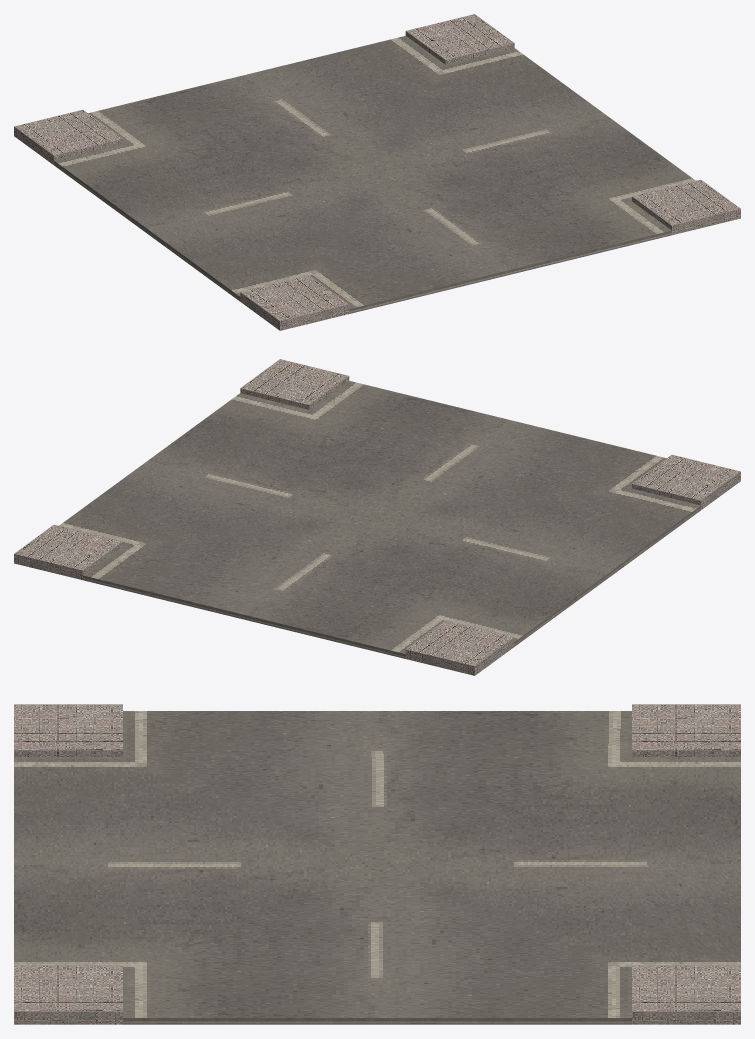
The model's file is road_4_junction.glb.
The picture shows the model from 3 angles, top to bottom: view 1: azimuth 30°, elevation 25°; view 2: azimuth 150°, elevation 25°; view 3: azimuth 270°, elevation 25°; orthographic projection. The views are drawn at different scales.
Visible parts, largest first — view 1: road_4_junction; view 2: road_4_junction; view 3: road_4_junction.
Part boxes in pixels (x1,y1,x2,y2): road_4_junction: (14, 14, 740, 330); road_4_junction: (14, 359, 740, 675); road_4_junction: (14, 704, 740, 1024).
Bounding box in the file's own units: 16 × 0.32 × 16.
2 materials, 2 textured.
